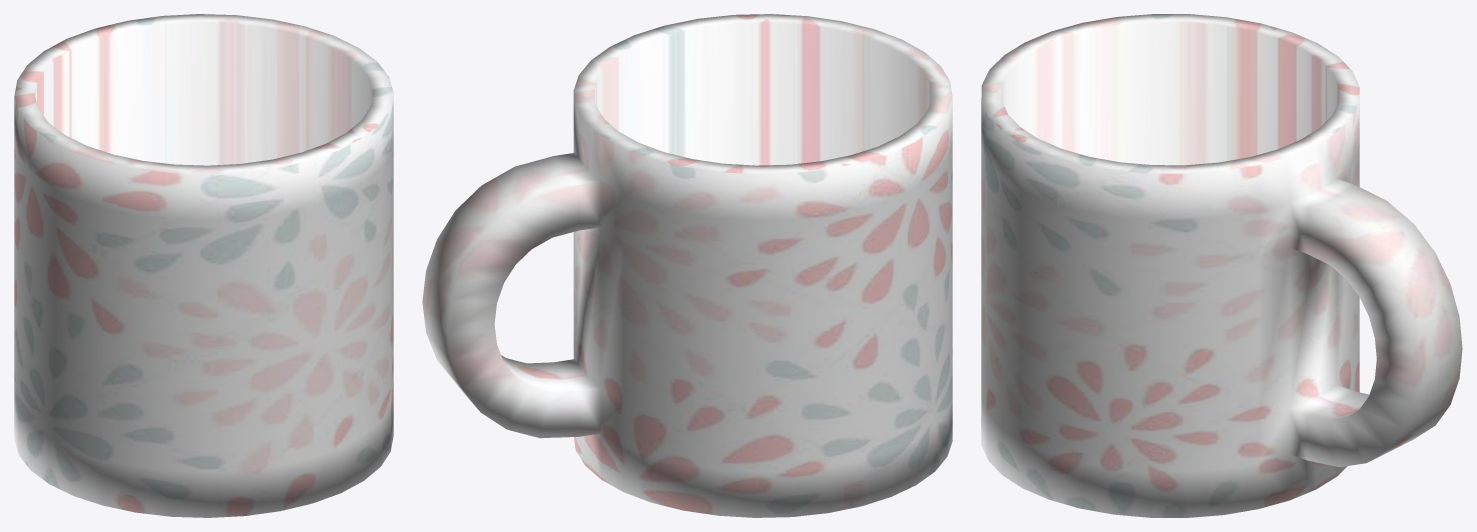
Rendered from glass.glb.
3 renders of one model, left to right at view 1: azimuth 30°, elevation 25°; view 2: azimuth 150°, elevation 25°; view 3: azimuth 270°, elevation 25°, orthographic.
Parts seen in each view (by area): view 1: Cylinder.001; view 2: Cylinder.001; view 3: Cylinder.001.
Part boxes in pixels (<box>): Cylinder.001: <box>14,14,393,517</box>; Cylinder.001: <box>422,14,952,517</box>; Cylinder.001: <box>981,14,1462,517</box>.
Size of the model in its own units: 0.8067 by 0.6935 by 0.8787.
1 material, 1 textured.
